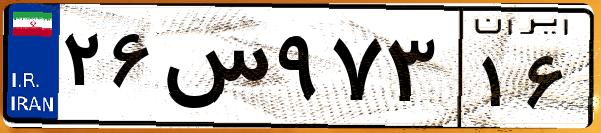1: (475, 38, 525, 113)
2: (57, 26, 110, 100)
3: (385, 28, 445, 110)
6: (525, 38, 570, 115), (110, 28, 158, 98)
7: (330, 28, 385, 110)
9: (270, 28, 330, 110)
س: (158, 20, 270, 120)
